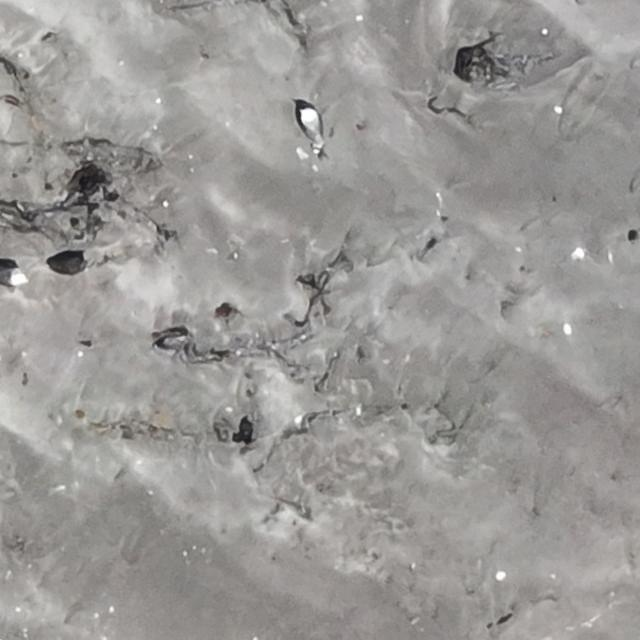umineko: (302, 110, 322, 145), (0, 267, 22, 285)
